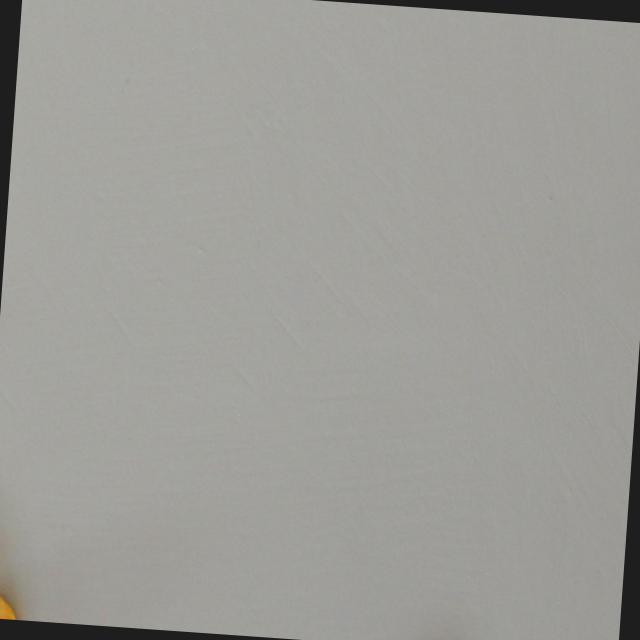dañado: (0, 584, 43, 621)
